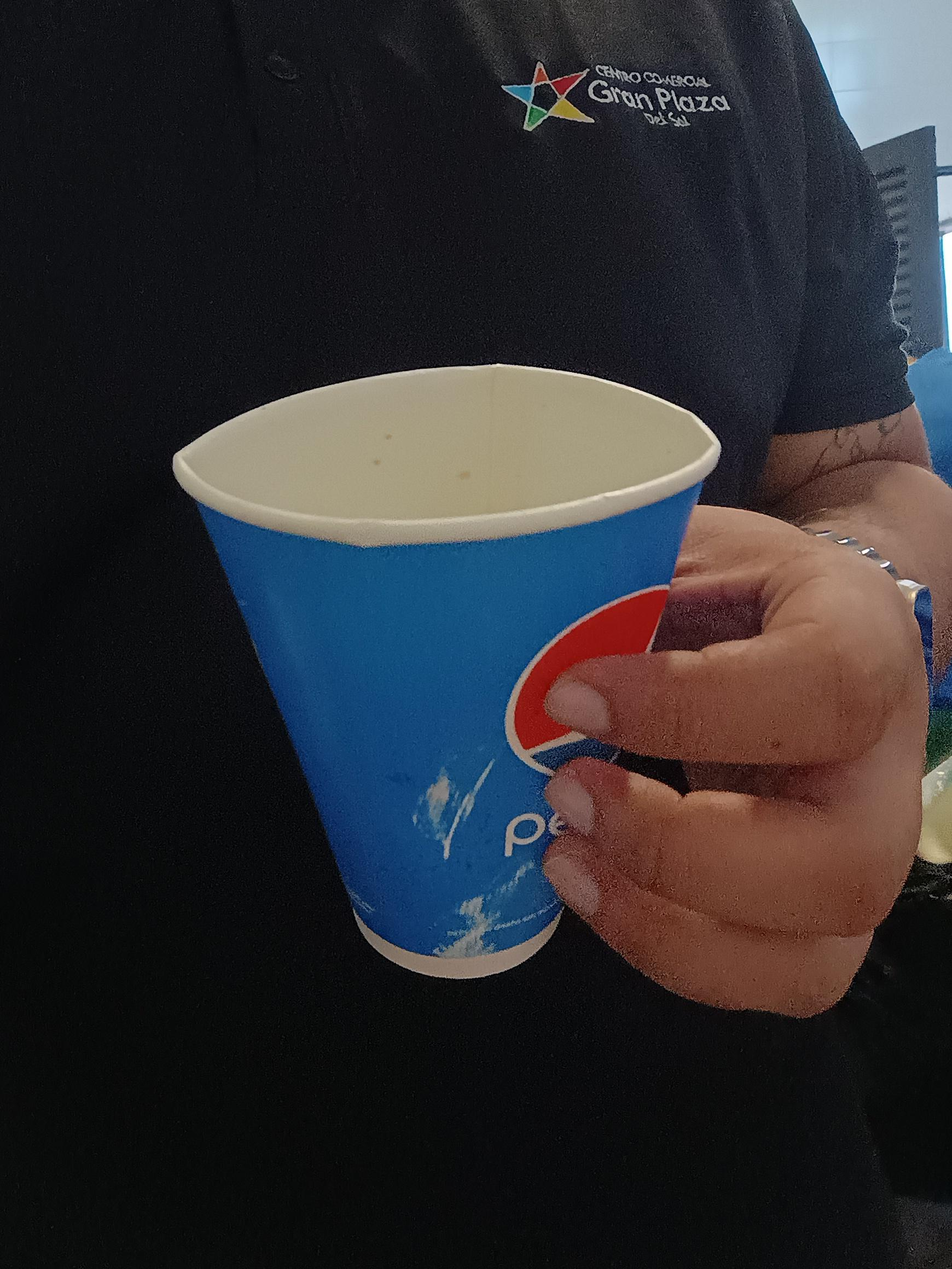Carton: (175, 361, 721, 981)
